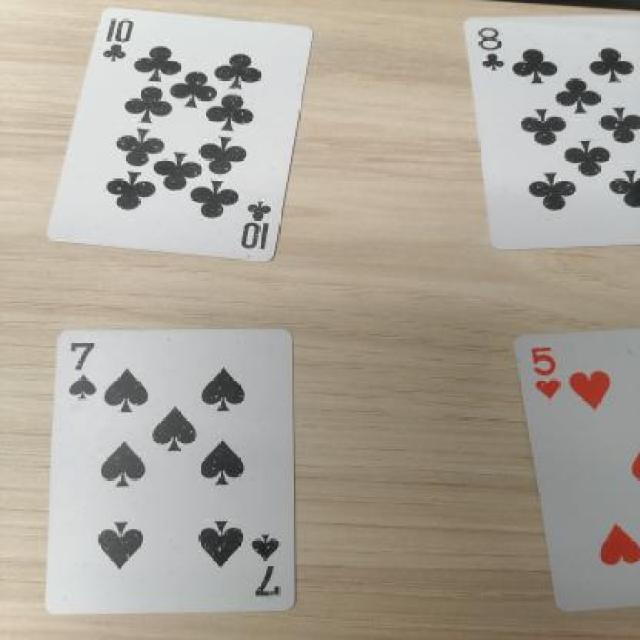10C: (79, 14, 153, 71)
5H: (517, 332, 585, 416)
7S: (54, 332, 108, 412)
8C: (468, 19, 510, 87)
